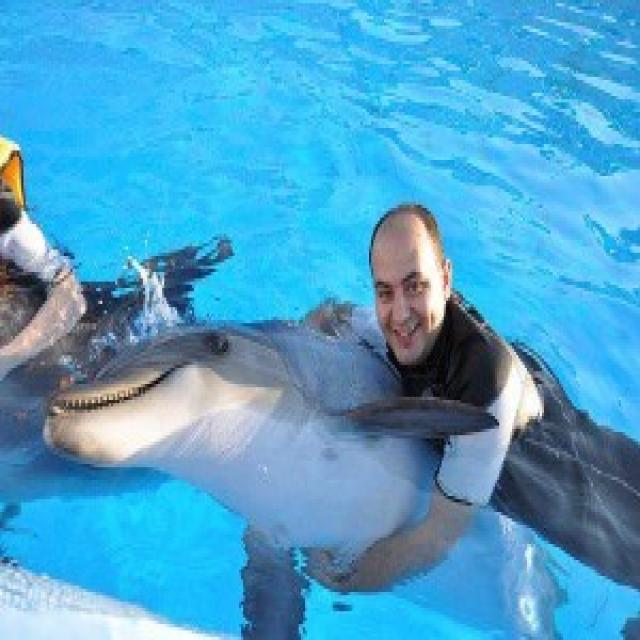Dolphin: (33, 251, 606, 640)
